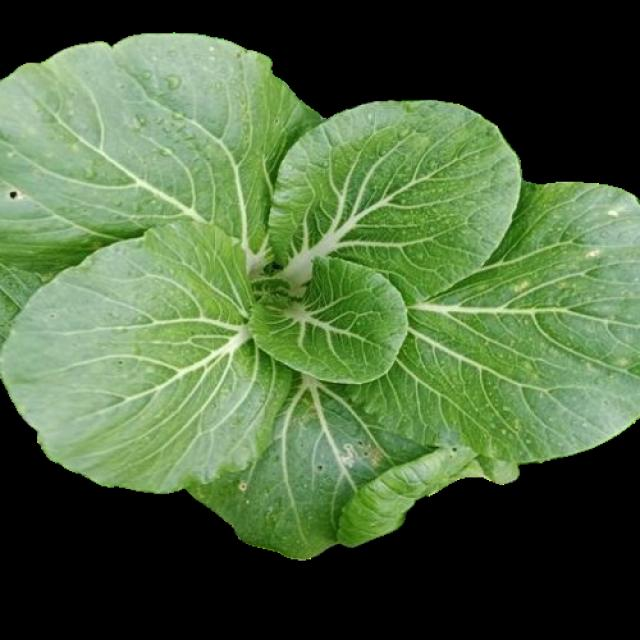mature: (1, 34, 638, 556)
unhealthy: (353, 183, 640, 463), (2, 223, 280, 490), (2, 36, 328, 257), (190, 374, 442, 554)
